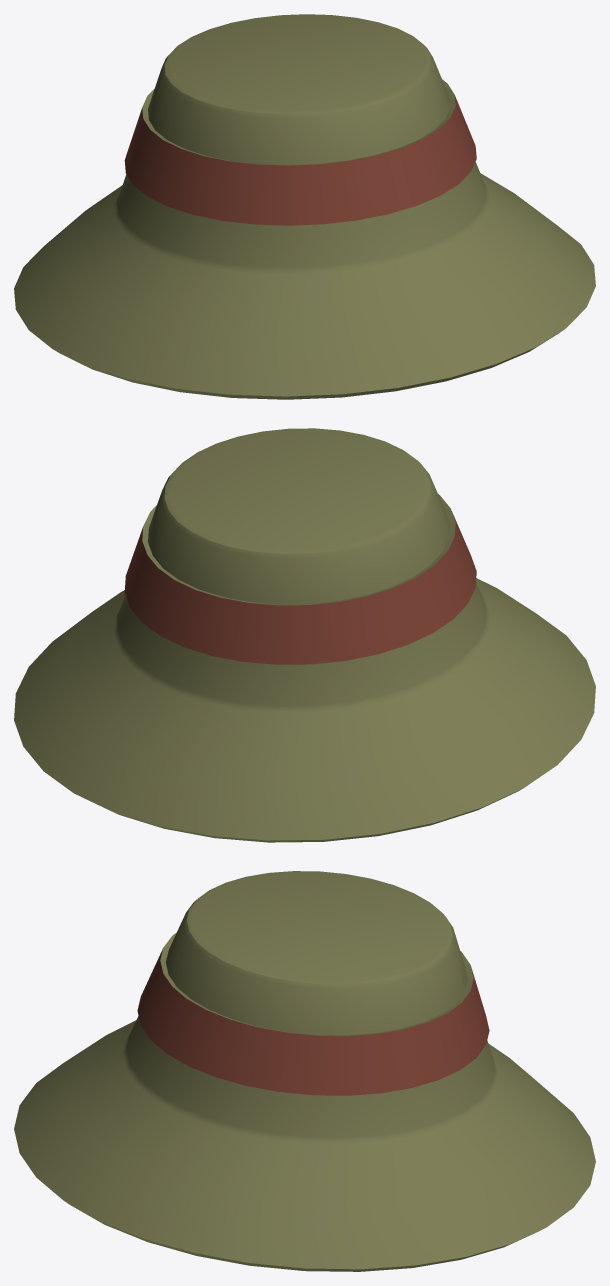
The model's file is hat 1.fbx.
3 views of the same model, one above another, from view 1: azimuth 30°, elevation 25°; view 2: azimuth 150°, elevation 25°; view 3: azimuth 270°, elevation 25° (orthographic).
Parts seen in each view (by area): view 1: Circle; view 2: Circle; view 3: Circle.
Boxes of the visible parts, x1,y1,x2,y2 form: Circle: (14, 14, 595, 399); Circle: (14, 428, 595, 842); Circle: (14, 871, 595, 1271).
Size of the model in its own units: 141 by 66.05 by 140.
